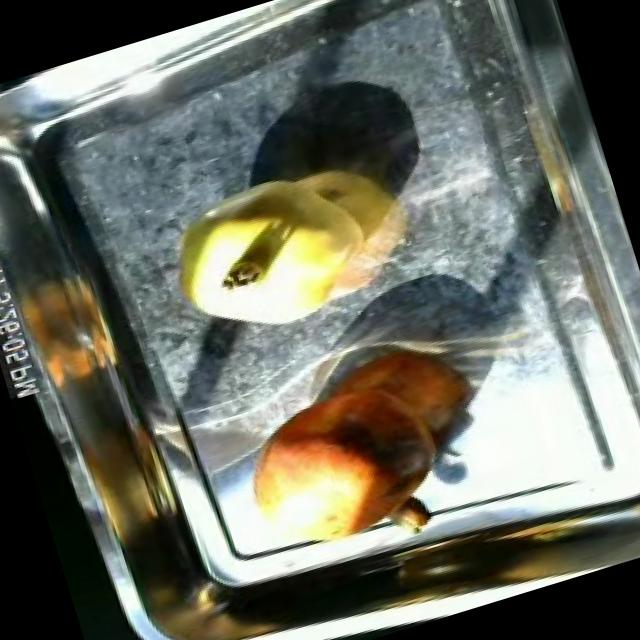fruit: (136, 143, 399, 364), (215, 354, 473, 570)
